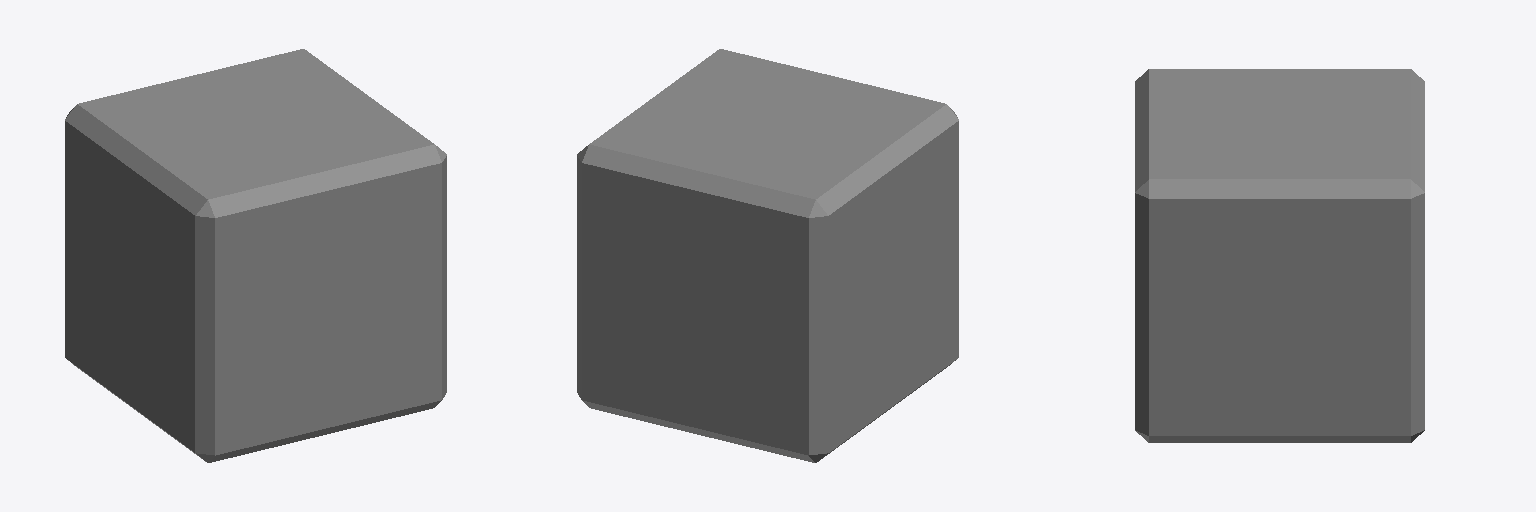
The model's file is dados_cubo1.obj.
3 views of the same model, side by side, from view 1: azimuth 30°, elevation 25°; view 2: azimuth 150°, elevation 25°; view 3: azimuth 270°, elevation 25° (orthographic).
Parts seen in each view (by area): view 1: polySurface1; view 2: polySurface1; view 3: polySurface1.
Boxes of the visible parts, <box> form: polySurface1: <box>65,49,446,462</box>; polySurface1: <box>577,49,958,462</box>; polySurface1: <box>1135,69,1424,442</box>.
Size of the model in its own units: 0.6916 by 0.6916 by 0.6915.